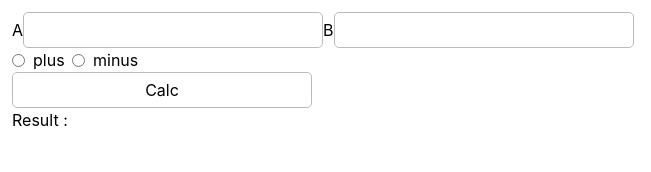
cal 단위 테스트 › 정상 입력과 minus 선택시 정상 동작
The image size is (651, 172).
Type "1" into the field labelled "A".
click(173, 30); type("1")  # box [23,12,323,48]
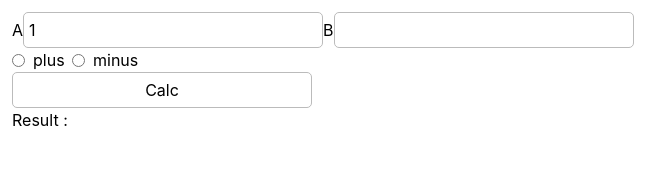
Type "2" into the field labelled "B".
click(484, 30); type("2")  # box [334,12,634,48]
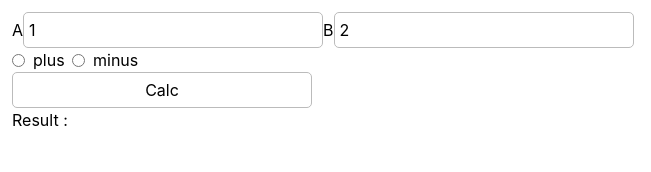
Click the radio button labelled "minus".
click(78, 60)  # box [72,54,85,66]
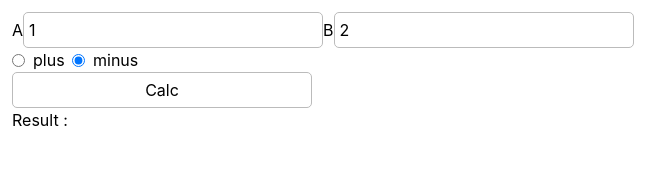
Click the button "Calc".
click(162, 90)  # box [12,72,312,108]
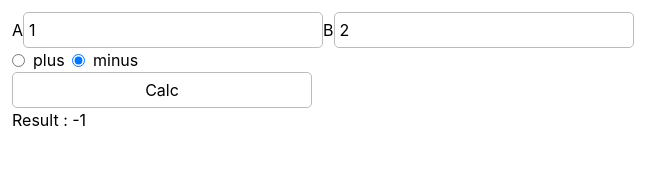
Expected: the text with test id "result" reads "Result : -1", [12,110,86,130]
